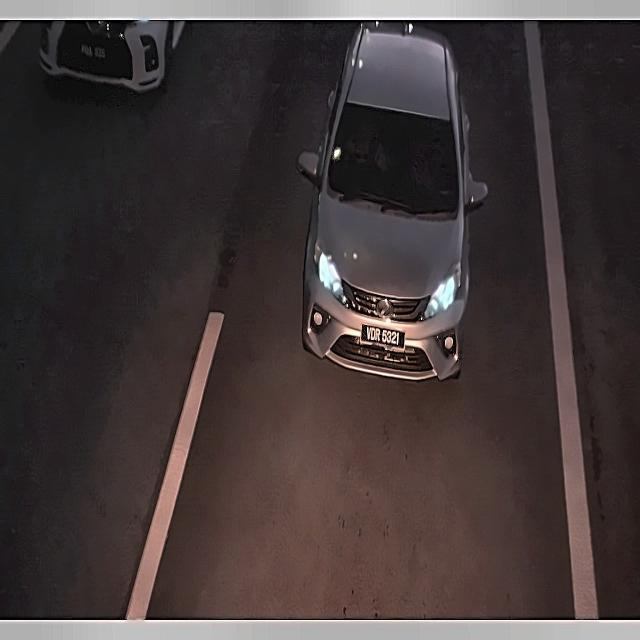car: (358, 320, 411, 355), (73, 34, 116, 67)
